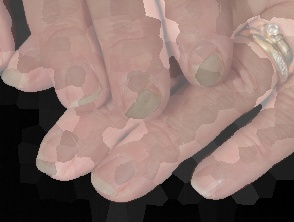Nail_psoriasis: (82, 141, 157, 211), (171, 26, 243, 98), (30, 120, 99, 189), (182, 148, 246, 210), (111, 63, 174, 123), (53, 53, 111, 114), (0, 42, 56, 101)
